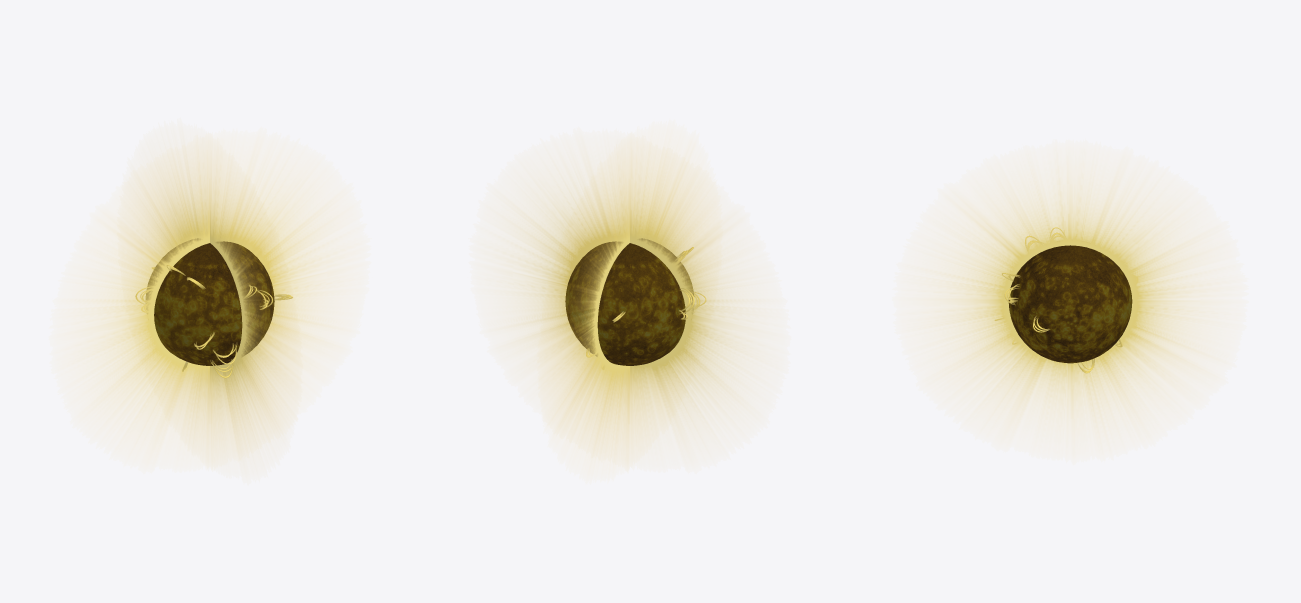
File: Sol espacio tormenta solar.glb
3 views of the same model, side by side, from view 1: azimuth 30°, elevation 25°; view 2: azimuth 150°, elevation 25°; view 3: azimuth 270°, elevation 25° (orthographic). The views are drawn at different scales.
Parts seen in each view (by area): view 1: Sun_Corona, Sun_Photosphere_Active, Sun_Prominences; view 2: Sun_Corona, Sun_Photosphere_Active; view 3: Sun_Corona, Sun_Photosphere_Active, Sun_Prominences.
Part boxes in pixels (x1,y1,x2,y2): Sun_Corona: [96, 152, 323, 451]; Sun_Photosphere_Active: [146, 238, 274, 365]; Sun_Prominences: [135, 265, 292, 378]; Sun_Corona: [516, 151, 743, 449]; Sun_Photosphere_Active: [565, 238, 693, 365]; Sun_Corona: [945, 182, 1196, 418]; Sun_Photosphere_Active: [1008, 245, 1132, 363]; Sun_Prominences: [994, 227, 1122, 373].
Size of the model in its own units: 7 by 7 by 7.
Materials: 3 (3 with a texture image).
